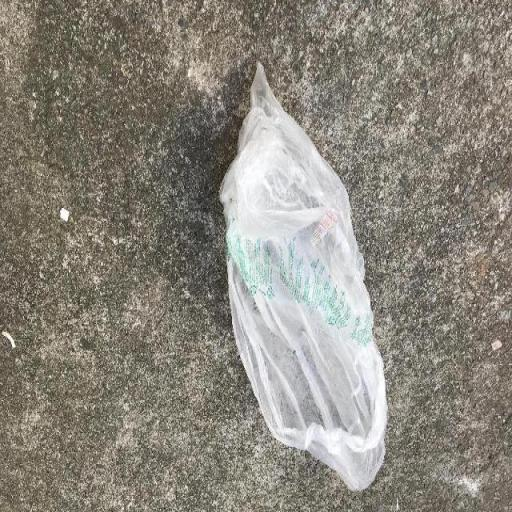plastic-bag: (219, 62, 388, 494)
